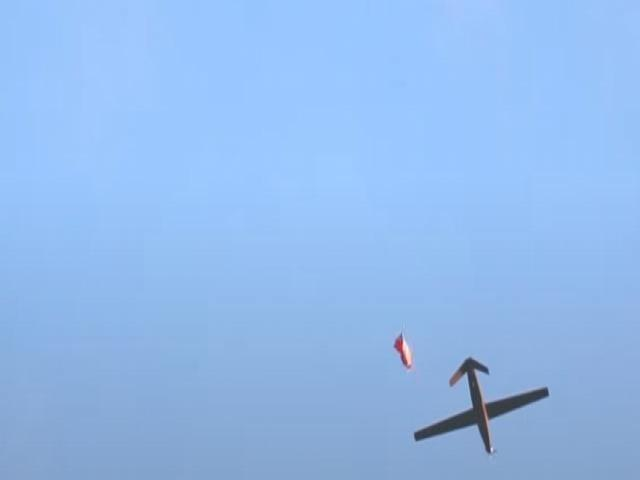iha: (411, 355, 551, 461)
